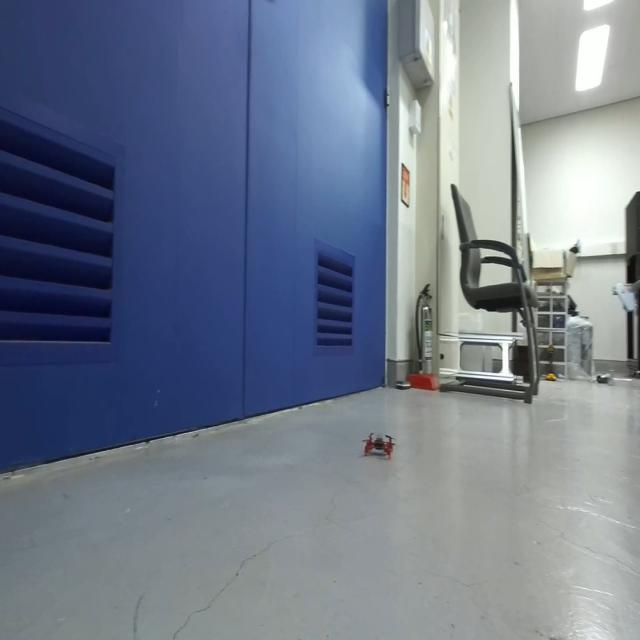crazyflie: (360, 428, 397, 462)
